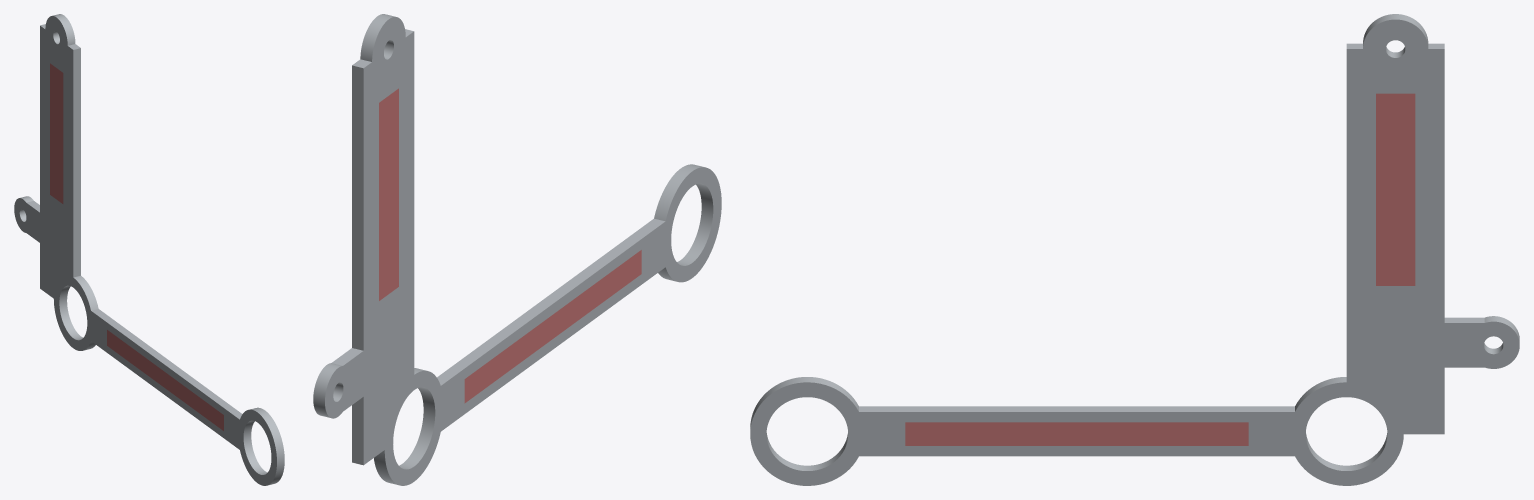
Rendered from step_05.glb.
The picture shows the model from 3 angles, left to right: view 1: azimuth 30°, elevation 25°; view 2: azimuth 150°, elevation 25°; view 3: azimuth 270°, elevation 25°; orthographic projection. The views are drawn at different scales.
Parts seen in each view (by area): view 1: part__spreader, removed__spreader; view 2: part__spreader, removed__spreader; view 3: part__spreader, removed__spreader.
Part boxes in pixels (<box>): part__spreader: <box>14,14,284,485</box>; removed__spreader: <box>50,63,223,430</box>; part__spreader: <box>313,14,721,485</box>; removed__spreader: <box>379,88,641,403</box>; part__spreader: <box>750,14,1519,485</box>; removed__spreader: <box>905,93,1415,445</box>.
Bounding box in the file's own units: 8 × 315 × 471.
